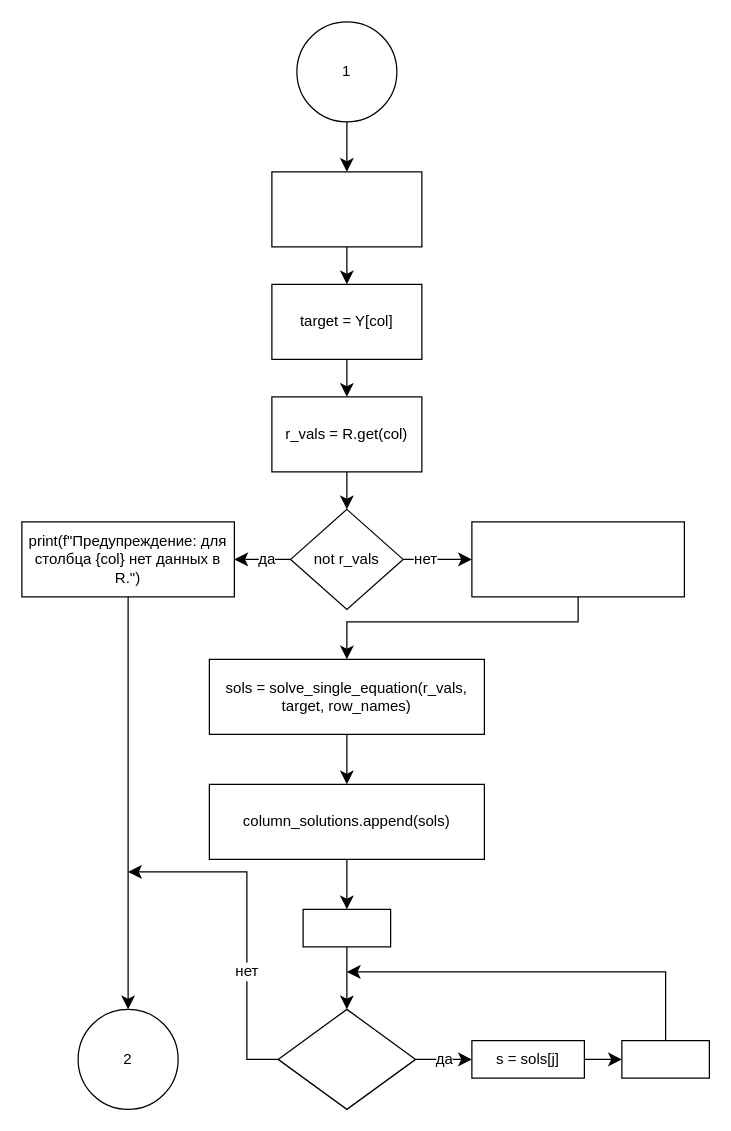
Some shapes in this 731 by 1131 pixel diagram are drawn without their labels. Each missing label, with the centre of its shape:
col = col_names[i]: pixel 346 209
j += 1: pixel 665 1058
j < len(sols): pixel 346 1058
j = 0: pixel 346 927
print(f"\nРешаем уравнение для выхода '{col}' (target={target}):"): pixel 577 559
